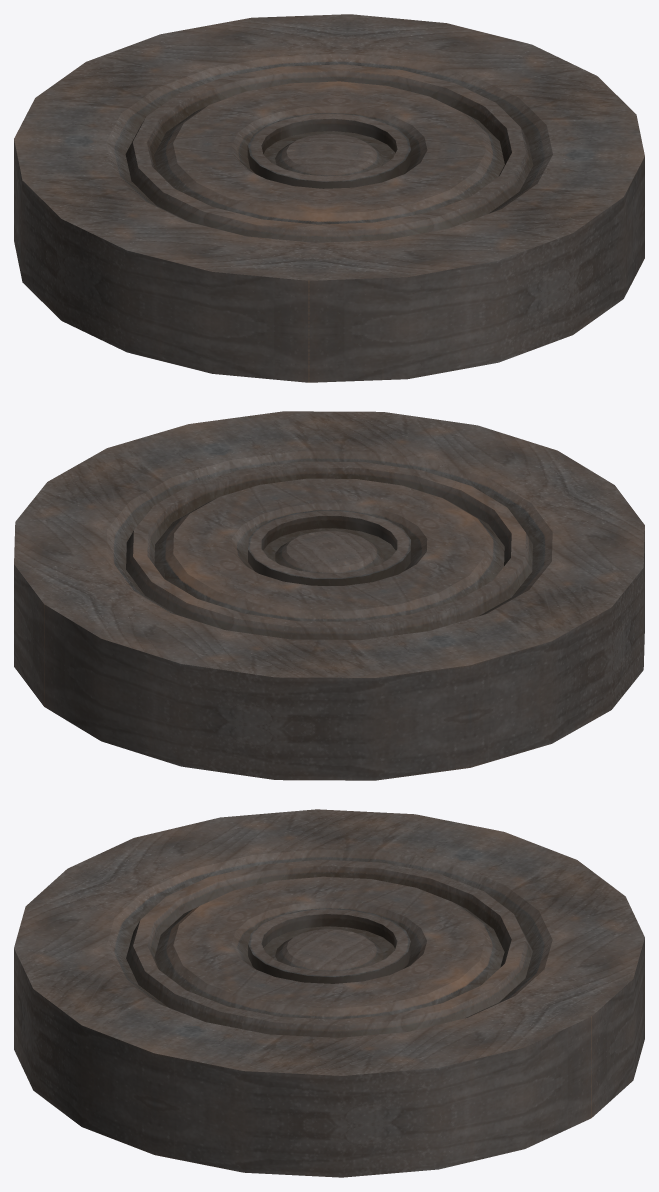
Rendered from Black.glb.
3 renders of one model, top to bottom at view 1: azimuth 30°, elevation 25°; view 2: azimuth 150°, elevation 25°; view 3: azimuth 270°, elevation 25°, orthographic.
Parts seen in each view (by area): view 1: Cylinder.001_8; view 2: Cylinder.001_8; view 3: Cylinder.001_8.
Boxes of the visible parts, left/top/right/bottom form: Cylinder.001_8: left=14, top=14, right=644, bottom=382; Cylinder.001_8: left=14, top=411, right=644, bottom=780; Cylinder.001_8: left=14, top=809, right=644, bottom=1177.
Bounding box in the file's own units: 0.1838 × 0.0327 × 0.1838.
1 material, 1 textured.
